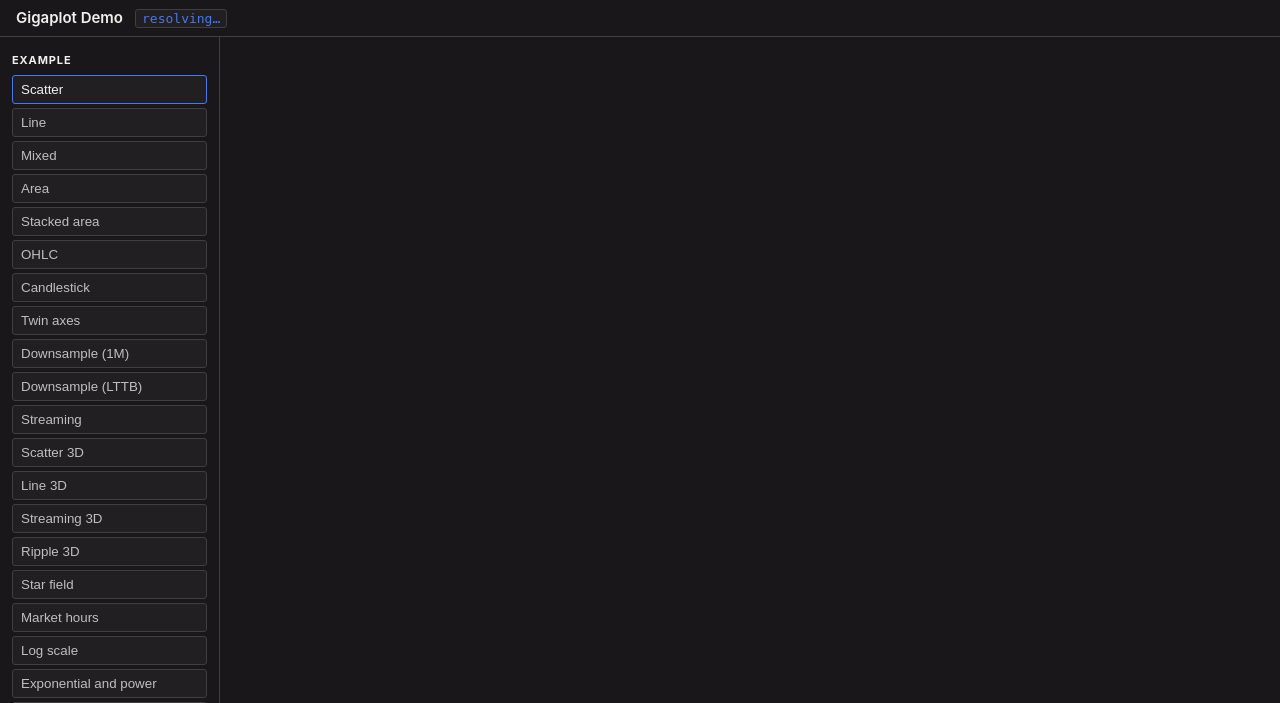
Test case: draws the ripple-3d example as a 3D plot
Click the button "Ripple 3D" at (110, 552), box left=12, top=537, right=207, bottom=566
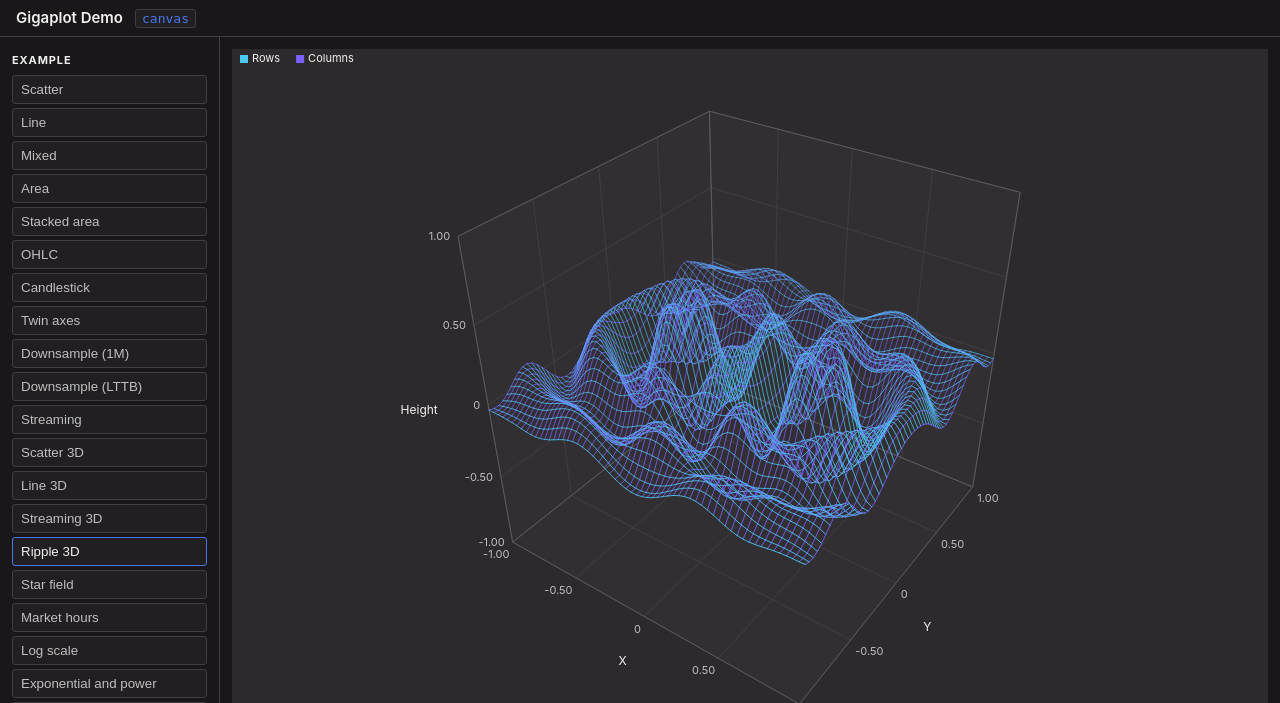
expect the text with test id "active-renderer" reads "canvas": met, box left=142, top=11, right=189, bottom=26
